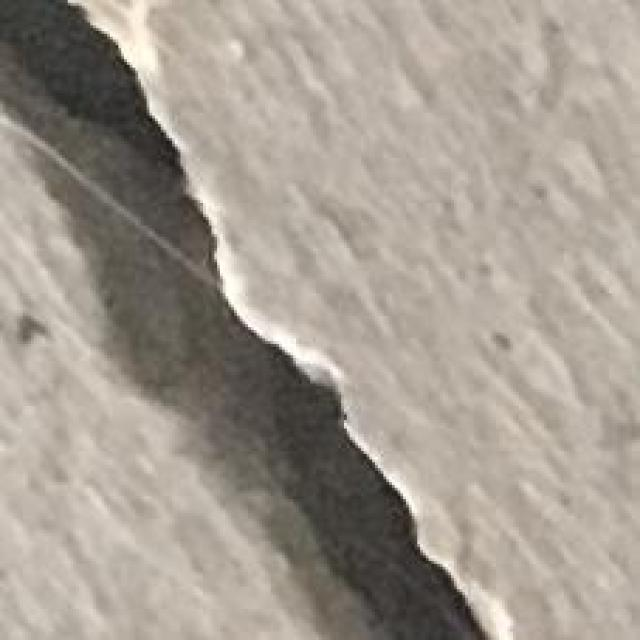Crack: (3, 3, 488, 640)
